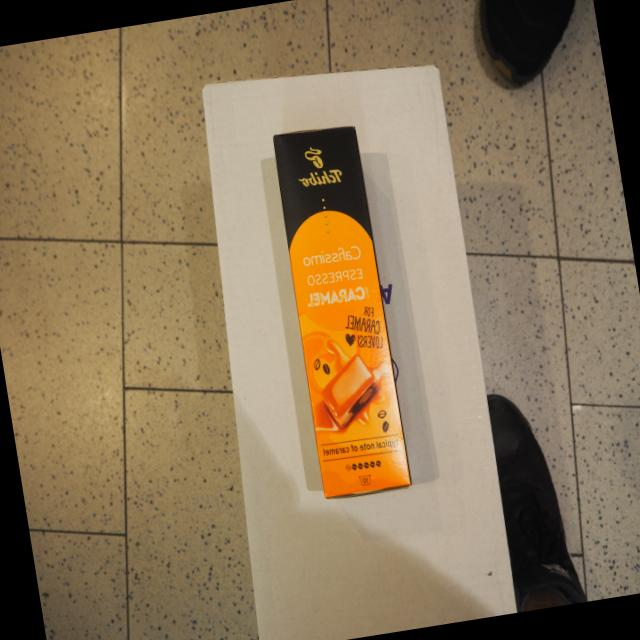Simo Es Caramel: (271, 121, 415, 501)
